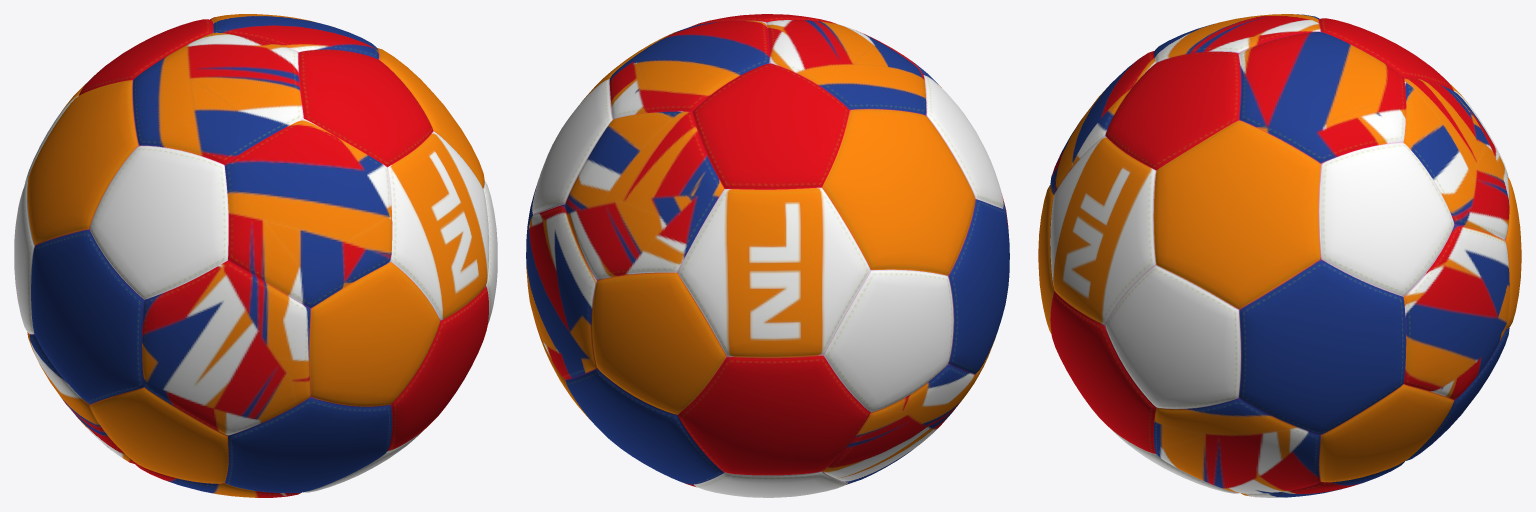
File: Ball-3.glb
The picture shows the model from 3 angles, left to right: view 1: azimuth 30°, elevation 25°; view 2: azimuth 150°, elevation 25°; view 3: azimuth 270°, elevation 25°; orthographic projection.
Visible parts, largest first — view 1: Ball.001; view 2: Ball.001; view 3: Ball.001.
Part boxes in pixels (x1,y1,x2,y2): Ball.001: (14, 14, 497, 497); Ball.001: (526, 14, 1009, 497); Ball.001: (1038, 14, 1521, 497).
Size of the model in its own units: 1.55 by 1.55 by 1.55.
1 material, 1 textured.
